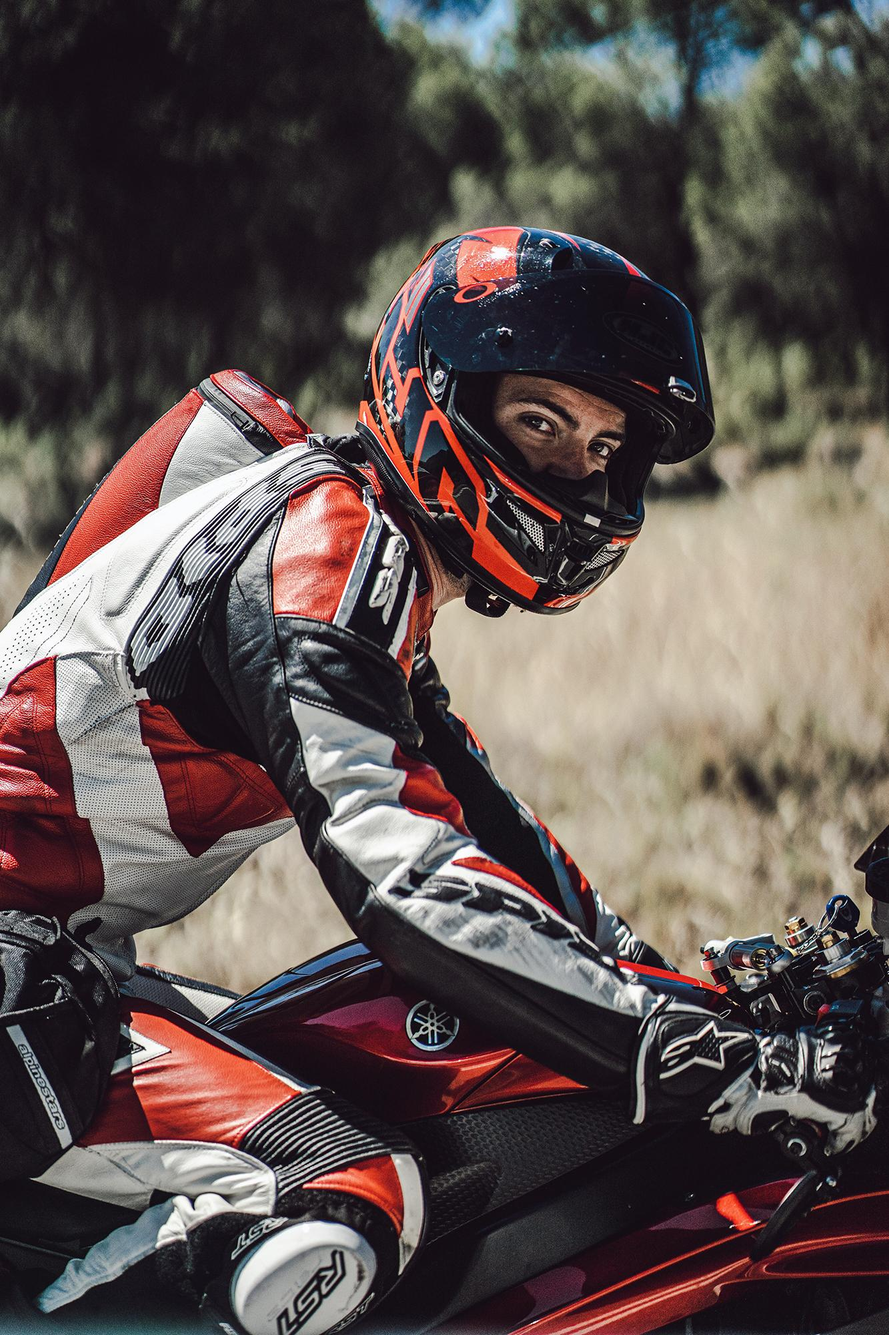helmet: (353, 223, 718, 621)
